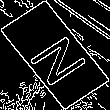N_NE: (19, 24, 91, 86)
